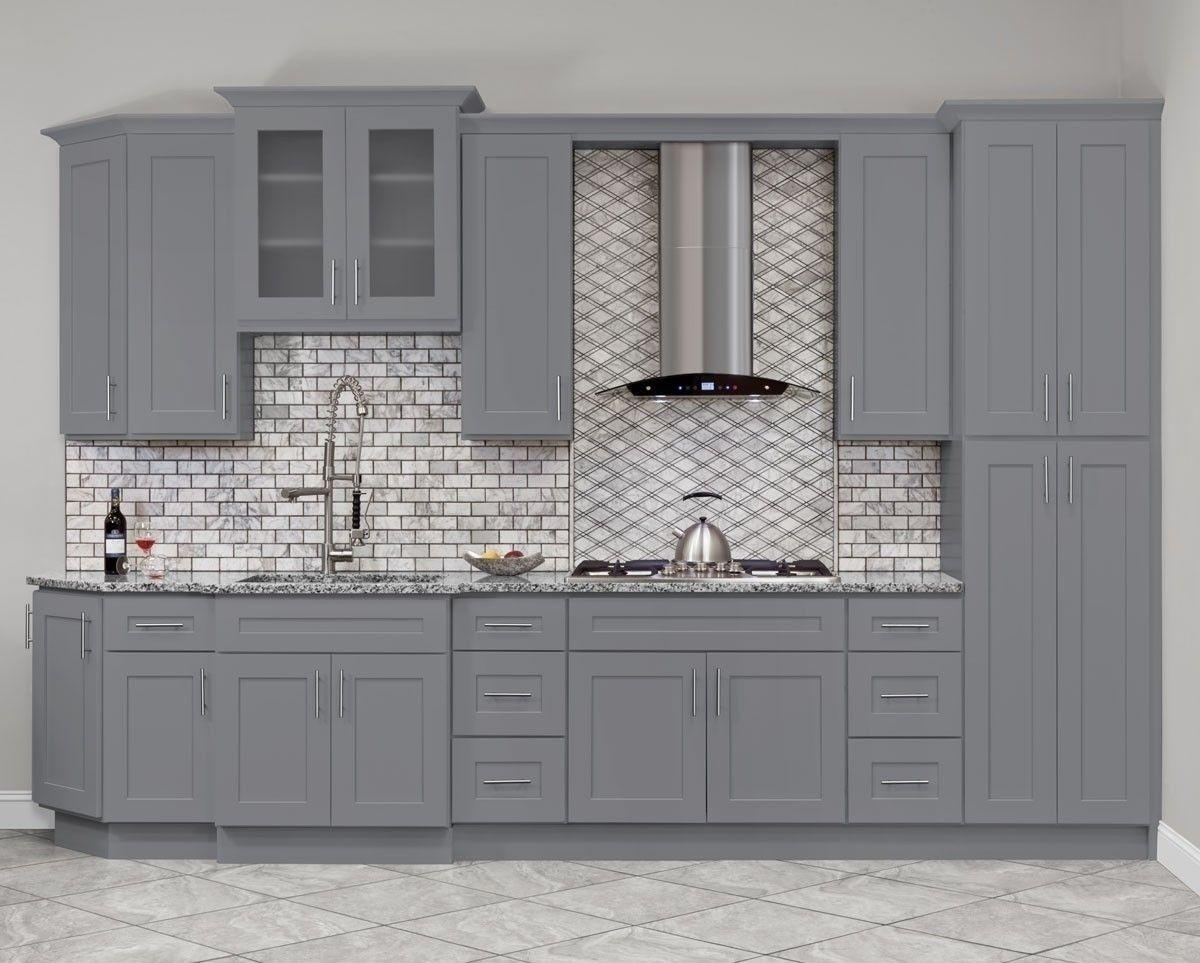cabinet_door: (1059, 453, 1148, 816), (843, 144, 949, 433), (470, 145, 575, 429), (976, 453, 1059, 811), (132, 142, 234, 429), (967, 140, 1063, 439), (1057, 131, 1149, 435), (705, 662, 843, 822), (575, 661, 710, 822), (347, 122, 456, 318), (236, 120, 342, 315), (333, 664, 448, 826), (214, 666, 327, 826), (102, 664, 208, 818), (63, 155, 121, 429), (27, 602, 96, 803), (453, 653, 565, 732), (855, 659, 965, 738), (456, 740, 565, 819), (853, 742, 960, 819), (459, 602, 566, 653), (856, 606, 963, 651), (107, 605, 209, 651)
handle: (1059, 454, 1083, 508), (1037, 371, 1059, 426), (680, 667, 703, 719), (1036, 455, 1058, 508), (308, 669, 330, 721), (1061, 373, 1081, 427), (76, 609, 96, 660), (711, 666, 730, 718), (214, 375, 234, 424), (549, 372, 567, 425), (333, 668, 352, 718), (102, 375, 122, 422), (196, 667, 214, 719), (875, 620, 933, 636), (484, 619, 542, 635), (846, 373, 865, 420), (132, 619, 187, 634), (327, 257, 344, 304), (349, 258, 366, 305), (488, 692, 533, 708), (884, 779, 930, 794), (490, 778, 534, 793), (888, 688, 926, 704)
